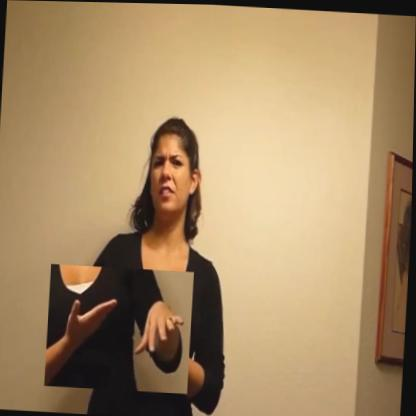Expensive: (46, 263, 195, 393)
